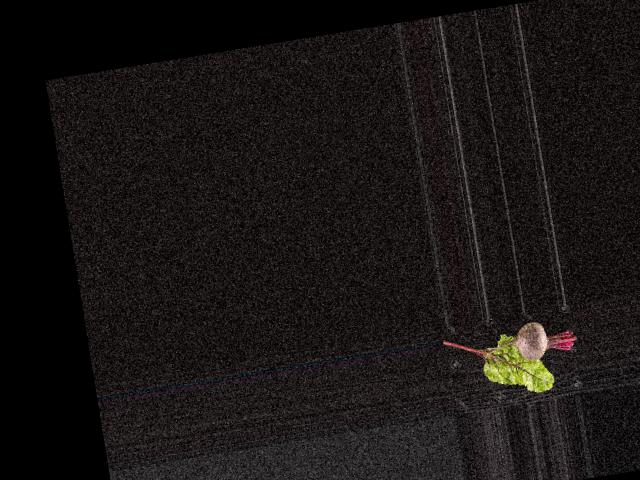beet: (479, 315, 579, 368)
